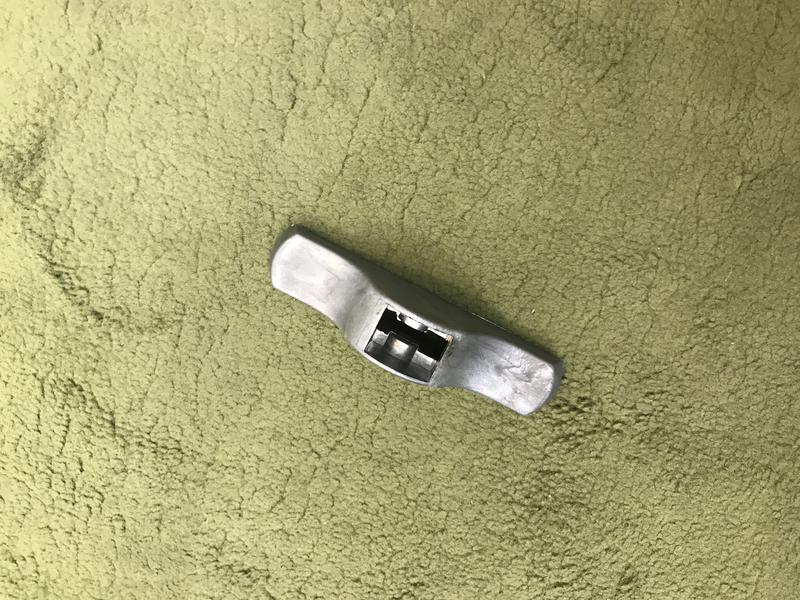zapchast: (249, 211, 572, 430)
